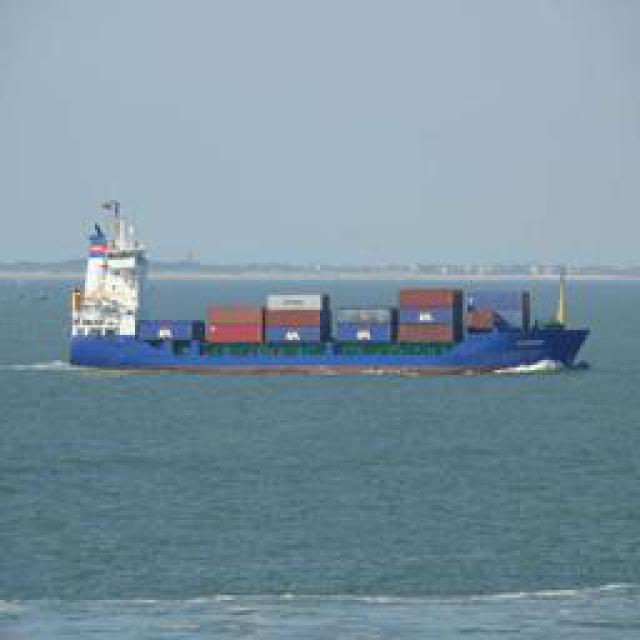Ship: (58, 253, 596, 378)
